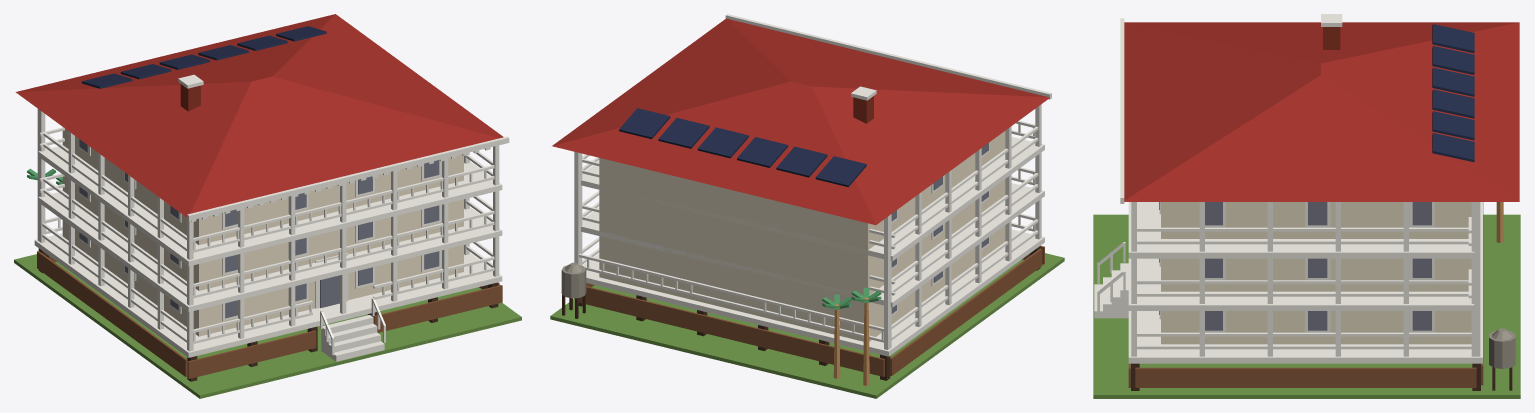
File: house-2x2-3f-queenslander-a-solar.glb
The picture shows the model from 3 angles, left to right: view 1: azimuth 30°, elevation 25°; view 2: azimuth 150°, elevation 25°; view 3: azimuth 270°, elevation 25°; orthographic projection. The views are drawn at different scales.
Parts seen in each view (by area): view 1: house-2x2-3f-queenslander-a-solar; view 2: house-2x2-3f-queenslander-a-solar; view 3: house-2x2-3f-queenslander-a-solar.
Boxes of the visible parts, x1=… form: house-2x2-3f-queenslander-a-solar: x1=14, y1=14, x2=521, y2=398; house-2x2-3f-queenslander-a-solar: x1=550, y1=14, x2=1064, y2=398; house-2x2-3f-queenslander-a-solar: x1=1093, y1=14, x2=1520, y2=398.
Bounding box in the file's own units: 1.99 × 1.3 × 1.99.
1 material, 1 textured.
